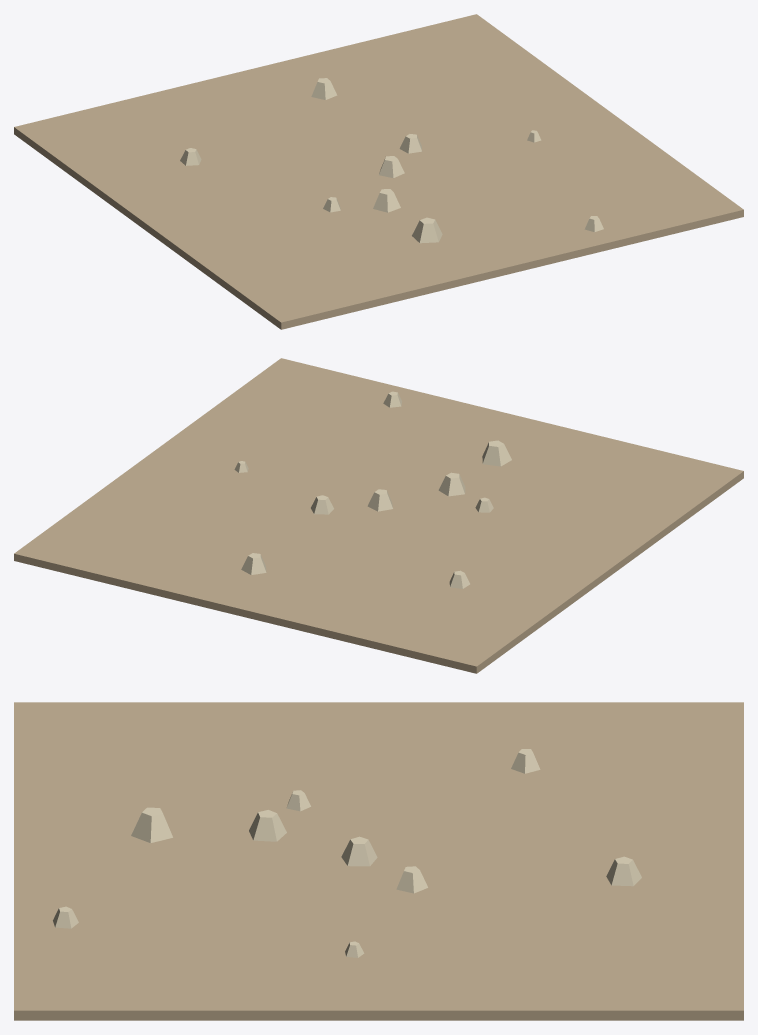
The model's file is radio-telescope-array-and-field-station-ground-module--f9c72023__37648.glb.
The picture shows the model from 3 angles, top to bottom: view 1: azimuth 30°, elevation 25°; view 2: azimuth 150°, elevation 25°; view 3: azimuth 270°, elevation 25°; orthographic projection. The views are drawn at different scales.
Visible parts, largest first — view 1: ground-module-dark; view 2: ground-module-dark; view 3: ground-module-dark.
Part boxes in pixels (bbox=[...]): ground-module-dark: bbox=[14, 14, 743, 329]; ground-module-dark: bbox=[14, 358, 743, 673]; ground-module-dark: bbox=[14, 702, 743, 1020].
Size of the model in its own units: 8 by 0.3896 by 8.
